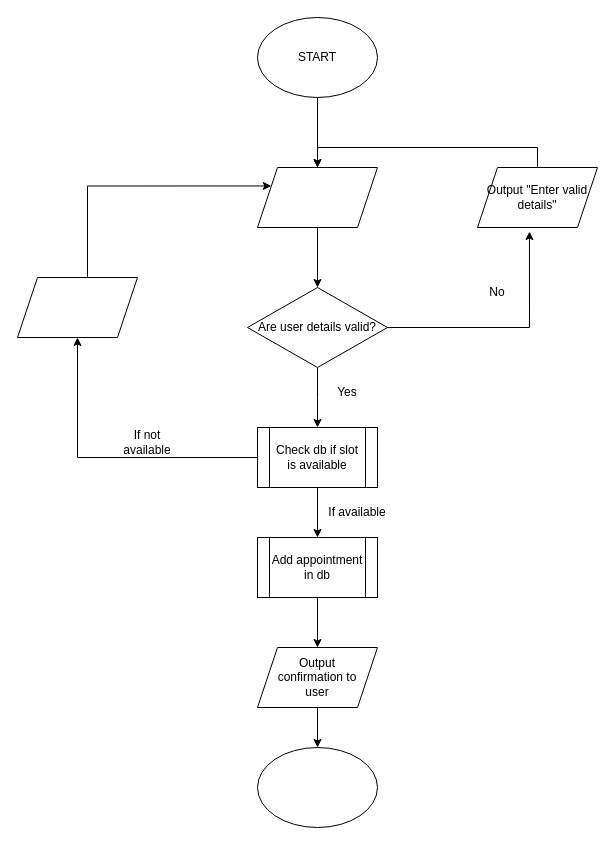
Some shapes in this 615 by 845 pixel diagram are drawn without their labels. Each missing label, with the box of its shape:
Enter user name, date and slot: (256, 166, 378, 228)
Output "Slot is booked": (16, 276, 138, 338)
STOP: (256, 746, 378, 828)
